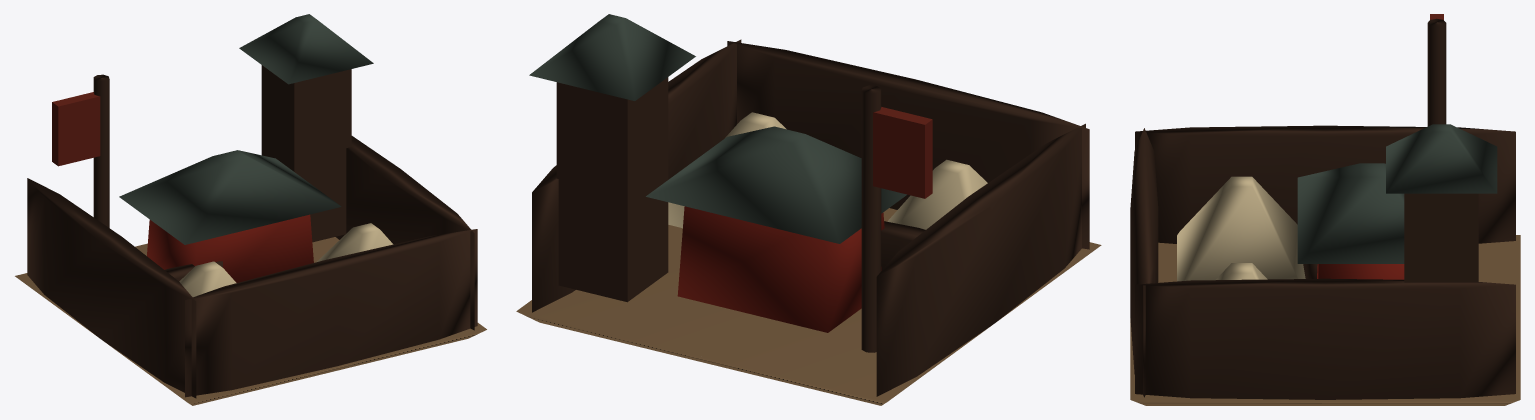
File: R38_HAN_LUOYANG_URBAN_MILITARY_CAMP_COMPOUND_A.fbx
3 views of the same model, side by side, from view 1: azimuth 30°, elevation 25°; view 2: azimuth 150°, elevation 25°; view 3: azimuth 270°, elevation 25° (orthographic). The views are drawn at different scales.
Visible parts, largest first — view 1: palisade_n, palisade_e, command_roof, watch, palisade_w, command, watch_roof, banner_cloth, yard, banner, tent_w, tent_e; view 2: palisade_e, watch, palisade_n, yard, command, command_roof, palisade_w, watch_roof, banner_cloth, banner, tent_e, rack (+1 smaller); view 3: palisade_w, palisade_e, command_roof, tent_e, watch_roof, watch, yard, palisade_n, banner, command, tent_w.
Part boxes in pixels (x1=…): palisade_n: x1=185, y1=229, x2=477, y2=397; palisade_e: x1=27, y1=178, x2=196, y2=398; command_roof: x1=119, y1=150, x2=341, y2=244; watch: x1=261, y1=65, x2=351, y2=242; palisade_w: x1=335, y1=136, x2=474, y2=330; command: x1=147, y1=214, x2=313, y2=282; watch_roof: x1=239, y1=14, x2=373, y2=84; banner_cloth: x1=52, y1=92, x2=100, y2=166; yard: x1=15, y1=237, x2=486, y2=405; banner: x1=93, y1=74, x2=109, y2=227; tent_w: x1=316, y1=223, x2=393, y2=262; tent_e: x1=179, y1=261, x2=236, y2=297; palisade_e: x1=876, y1=123, x2=1085, y2=396; watch: x1=556, y1=77, x2=668, y2=302; palisade_n: x1=727, y1=41, x2=1089, y2=249; yard: x1=516, y1=208, x2=1101, y2=405; command: x1=677, y1=206, x2=884, y2=332; command_roof: x1=646, y1=126, x2=906, y2=243; palisade_w: x1=532, y1=39, x2=741, y2=312; watch_roof: x1=529, y1=14, x2=695, y2=100; banner_cloth: x1=873, y1=107, x2=932, y2=198; banner: x1=861, y1=85, x2=881, y2=352; tent_e: x1=887, y1=159, x2=987, y2=229; rack: x1=881, y1=221, x2=925, y2=270; palisade_w: x1=1135, y1=278, x2=1515, y2=399; palisade_e: x1=1135, y1=125, x2=1515, y2=243; command_roof: x1=1297, y1=163, x2=1404, y2=263; tent_e: x1=1177, y1=176, x2=1305, y2=281; watch_roof: x1=1386, y1=124, x2=1497, y2=193; watch: x1=1404, y1=193, x2=1478, y2=282; yard: x1=1130, y1=235, x2=1520, y2=405; palisade_n: x1=1130, y1=128, x2=1158, y2=397; banner: x1=1427, y1=18, x2=1446, y2=126; command: x1=1317, y1=264, x2=1404, y2=279; tent_w: x1=1216, y1=263, x2=1267, y2=279.
Bounding box in the file's own units: 84 × 62 × 84.
